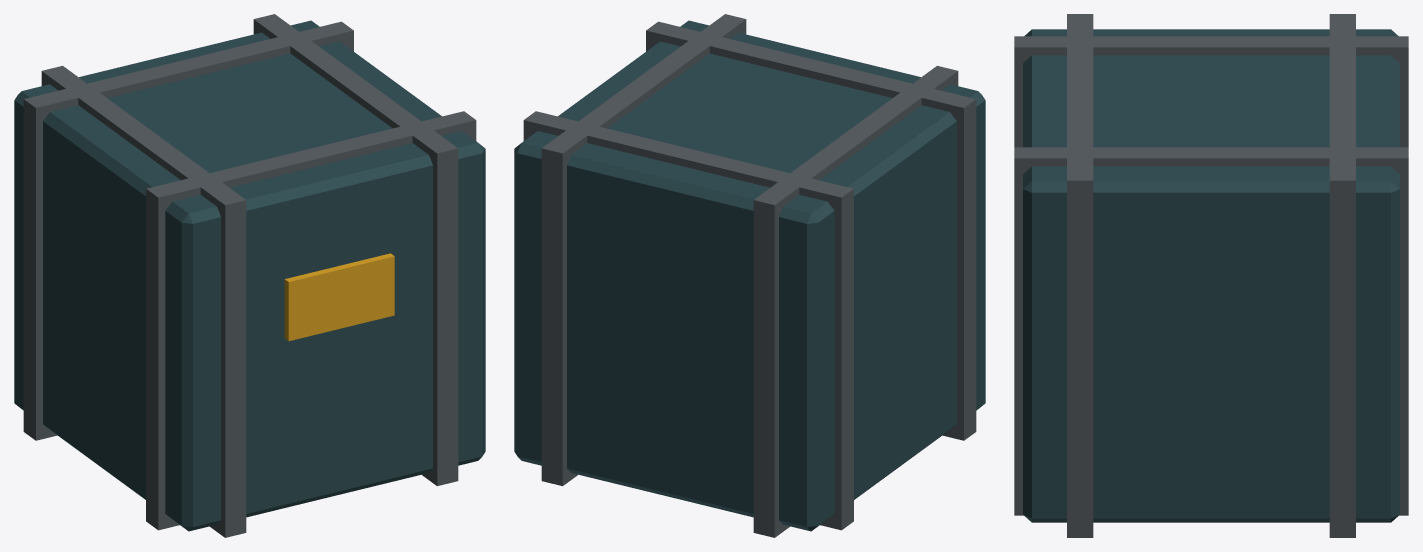
File: crate.glb
The picture shows the model from 3 angles, left to right: view 1: azimuth 30°, elevation 25°; view 2: azimuth 150°, elevation 25°; view 3: azimuth 270°, elevation 25°; orthographic projection. The views are drawn at different scales.
Visible parts, largest first — view 1: crate.001, strapY1, strapY-1, strapX1, strapX-1, crate_label; view 2: crate.001, strapY1, strapY-1, strapX1, strapX-1; view 3: crate.001, strapX-1, strapX1, strapY1, strapY-1.
Boxes of the visible parts, bbox=[...] form: crate.001: bbox=[14, 20, 485, 531]; strapY1: bbox=[253, 14, 458, 486]; strapY-1: bbox=[41, 65, 246, 537]; strapX1: bbox=[23, 21, 353, 440]; strapX-1: bbox=[146, 111, 476, 530]; crate_label: bbox=[284, 253, 394, 340]; crate.001: bbox=[514, 20, 985, 531]; strapY1: bbox=[541, 14, 746, 486]; strapY-1: bbox=[753, 65, 958, 537]; strapX1: bbox=[523, 111, 853, 530]; strapX-1: bbox=[646, 21, 976, 440]; crate.001: bbox=[1023, 29, 1399, 522]; strapX-1: bbox=[1067, 14, 1093, 537]; strapX1: bbox=[1329, 14, 1355, 537]; strapY1: bbox=[1014, 147, 1408, 515]; strapY-1: bbox=[1014, 36, 1408, 147].
Bounding box in the file's own units: 0.9 × 0.9 × 0.9.
